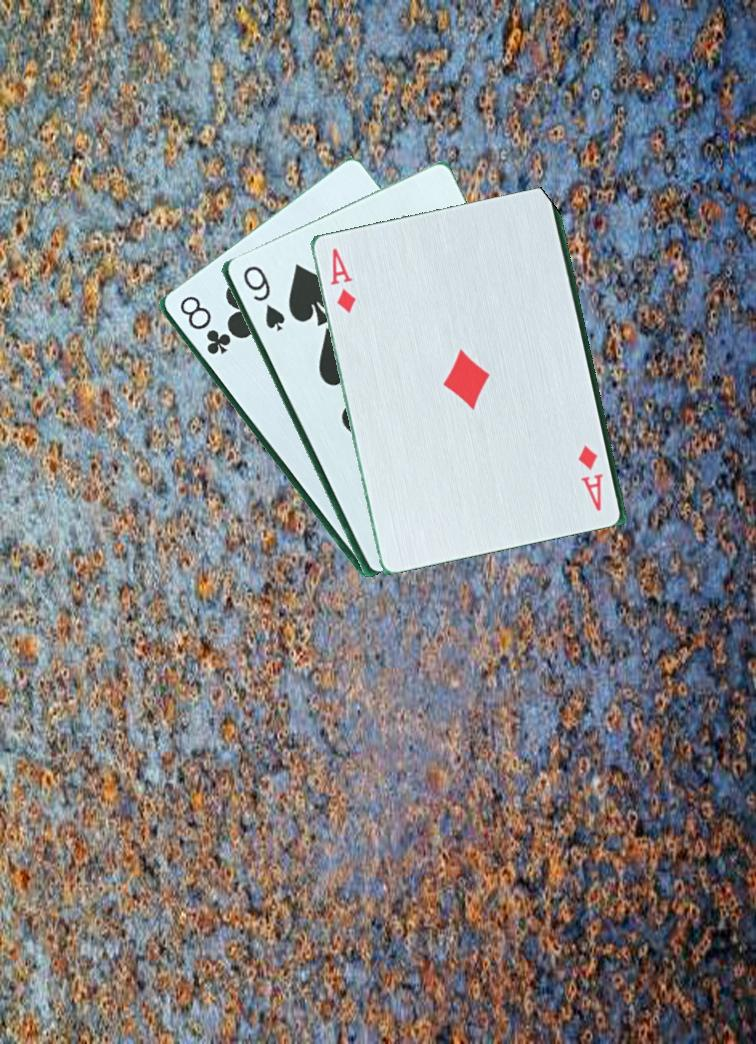8c: (175, 292, 231, 360)
9s: (239, 262, 286, 335)
ad: (573, 433, 607, 521), (326, 244, 358, 316)
